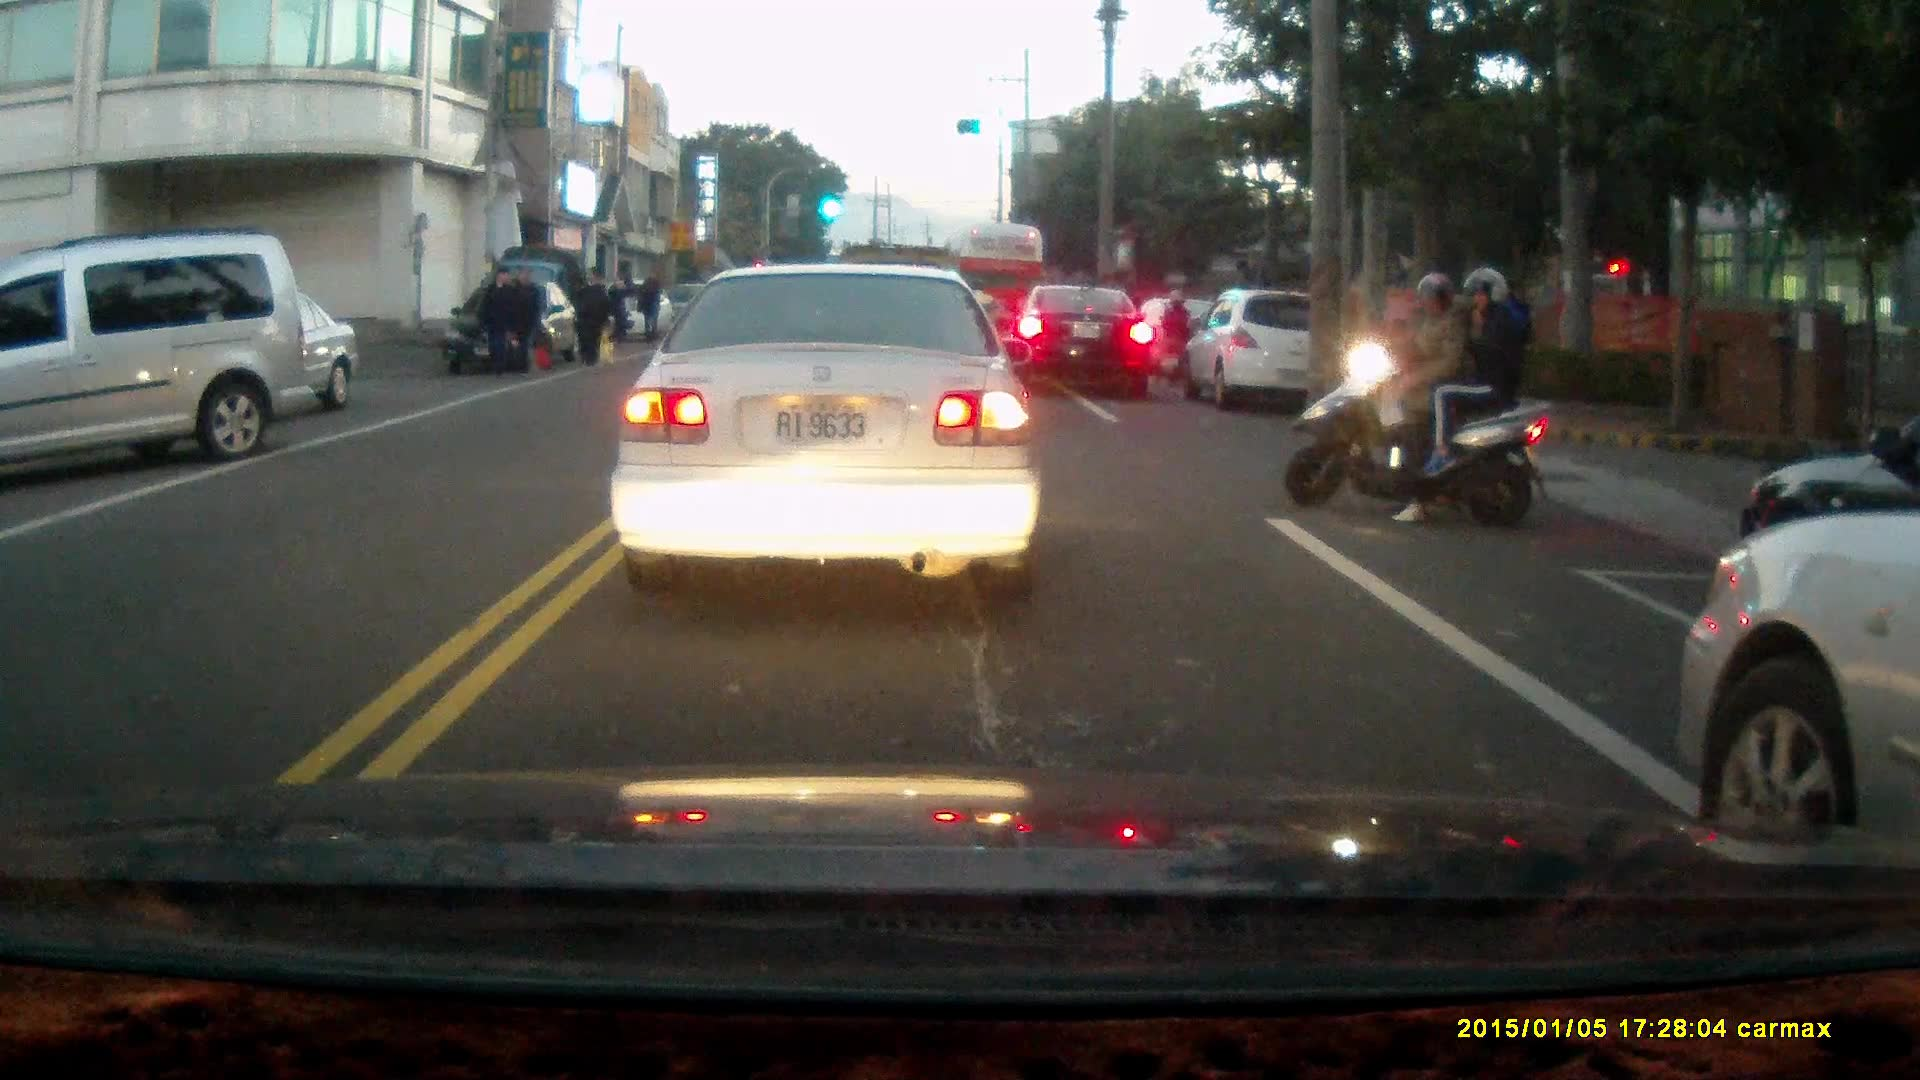pedestrian: (476, 262, 519, 382), (570, 265, 609, 370), (502, 263, 537, 377), (604, 268, 633, 351), (639, 270, 666, 341)
rider: (1278, 264, 1554, 534), (1156, 284, 1196, 389)
vehicle: (607, 259, 1042, 598), (1673, 496, 1920, 845), (1, 238, 309, 480), (1188, 288, 1346, 404), (1008, 285, 1155, 401), (442, 278, 582, 379)
